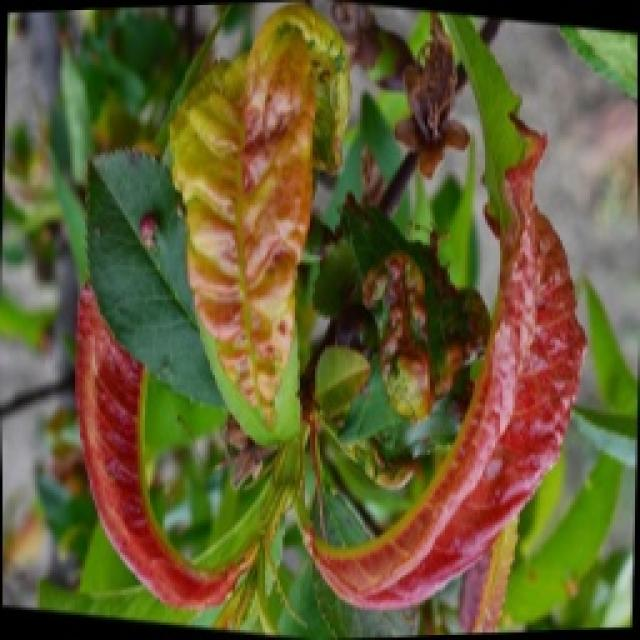peach_leaf_curl: (68, 2, 588, 630), (292, 112, 588, 612)
